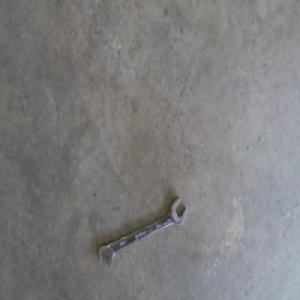Wrench: (98, 197, 186, 267)
